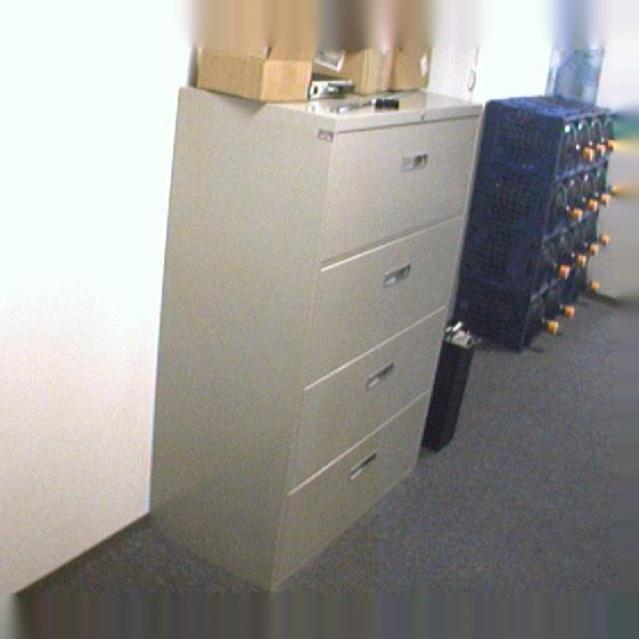Filing Cabinet: (144, 81, 483, 592)
